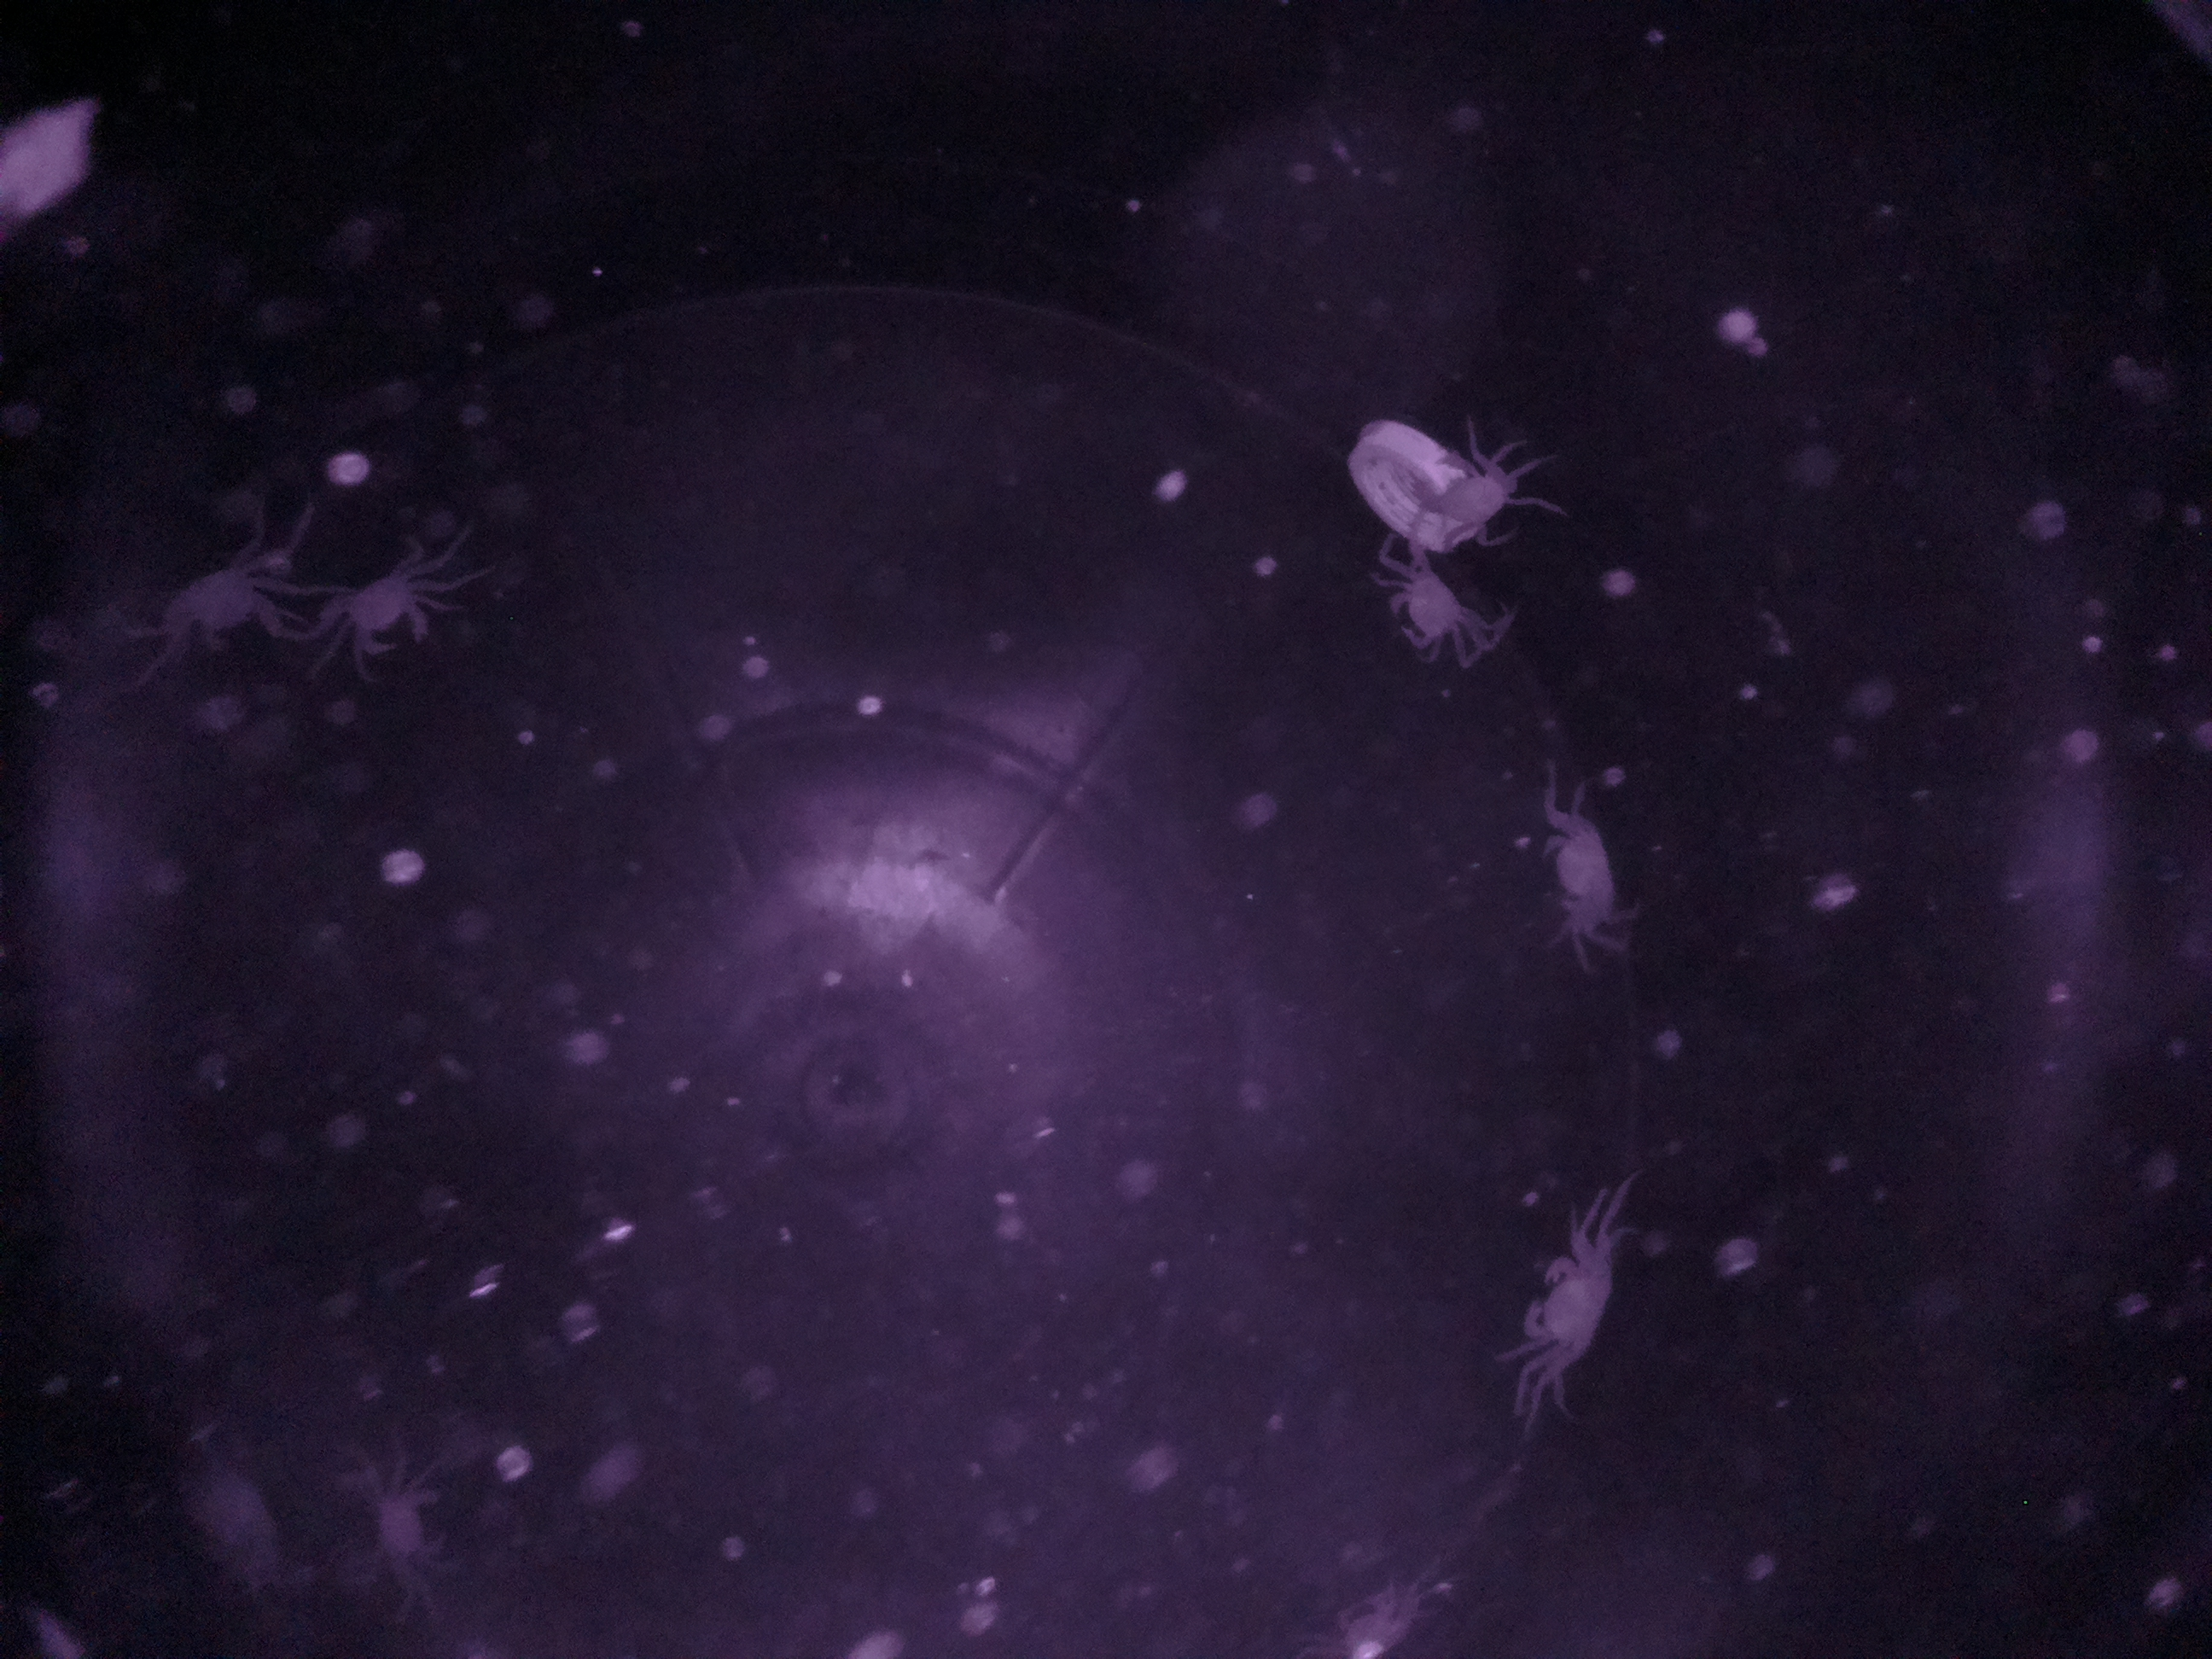Crab: (1500, 1234, 1622, 1392), (1522, 805, 1644, 948), (322, 549, 446, 681), (1367, 558, 1482, 666)
